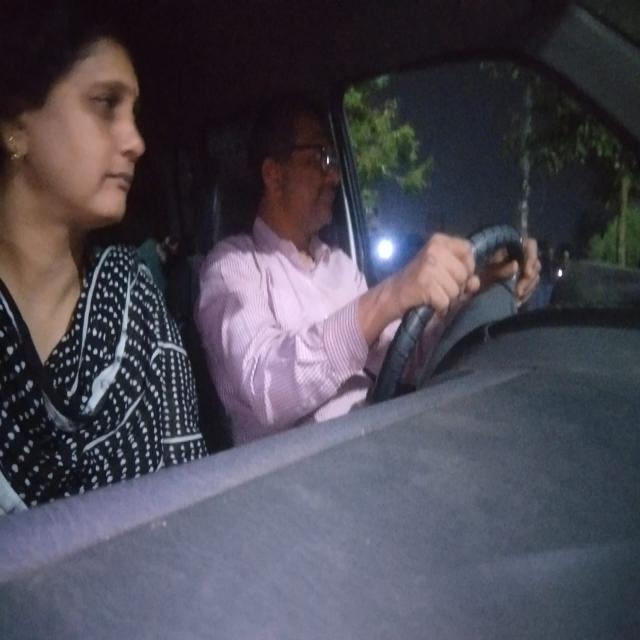LeftRight: (236, 78, 345, 243)
person: (2, 8, 153, 231)
